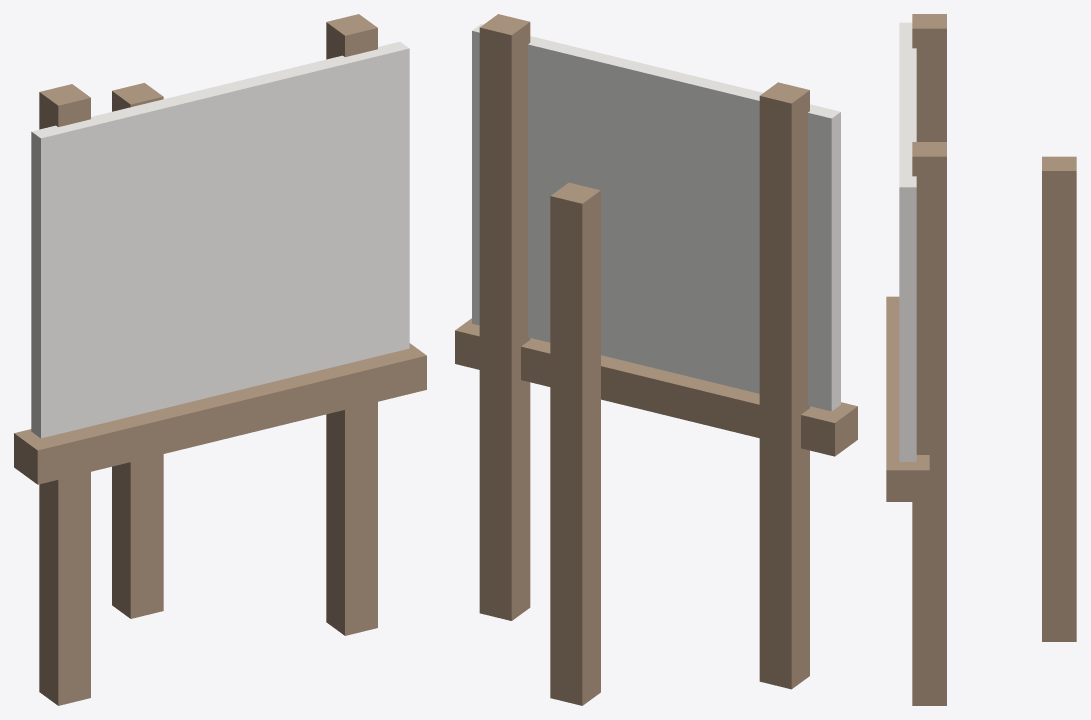
File: easel_basic.glb
3 views of the same model, side by side, from view 1: azimuth 30°, elevation 25°; view 2: azimuth 150°, elevation 25°; view 3: azimuth 270°, elevation 25° (orthographic). The views are drawn at different scales.
Parts seen in each view (by area): view 1: p003, p004, p001, p000, p002; view 2: p003, p001, p000, p002, p004; view 3: p001, p002, p003, p004, p000.
Boxes of the visible parts, <box> form: p003: <box>31,41,409,438</box>; p004: <box>14,343,426,484</box>; p001: <box>326,14,377,635</box>; p000: <box>39,84,90,705</box>; p002: <box>112,83,163,618</box>; p003: <box>472,24,840,411</box>; p001: <box>479,14,530,620</box>; p000: <box>759,82,809,689</box>; p002: <box>550,182,600,705</box>; p004: <box>455,318,857,456</box>; p001: <box>912,142,946,705</box>; p002: <box>1042,156,1076,641</box>; p003: <box>899,22,916,461</box>; p004: <box>886,296,929,501</box>; p000: <box>912,14,946,141</box>.
Bounding box in the file's own units: 0.95 × 1.4 × 0.44.
